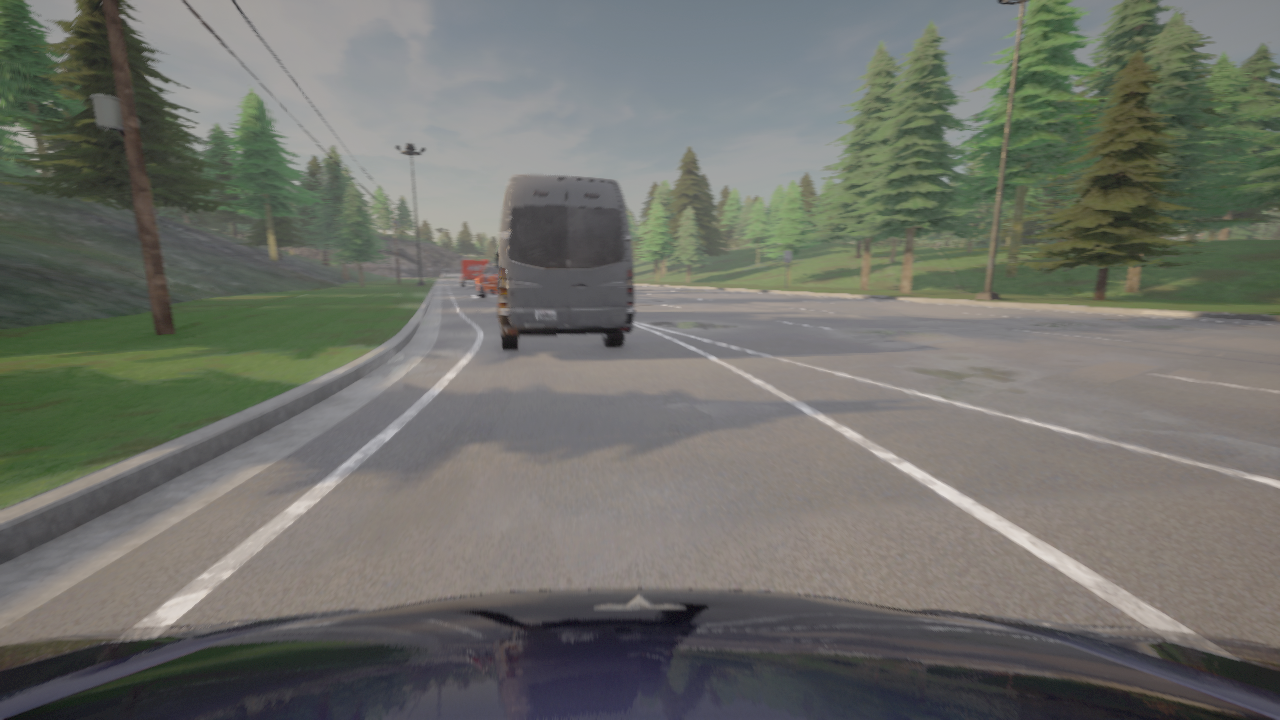cyclist: (0, 588, 1279, 719), (494, 175, 634, 350), (458, 259, 487, 287), (475, 264, 497, 298)
